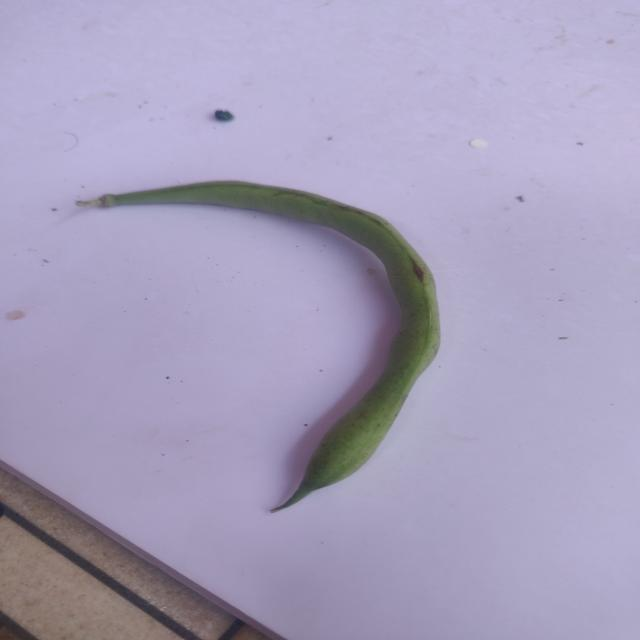Beans: (43, 167, 458, 514)
